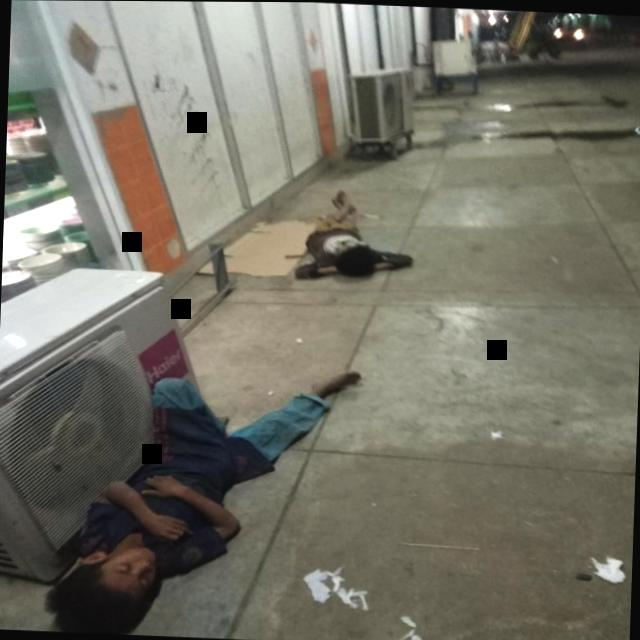Fall-Detected: (284, 172, 418, 291)
